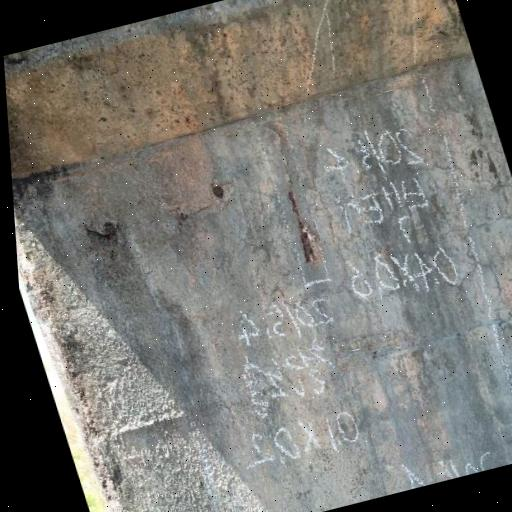exposed_rebar: (288, 191, 323, 262), (288, 192, 323, 262), (212, 186, 224, 199)
